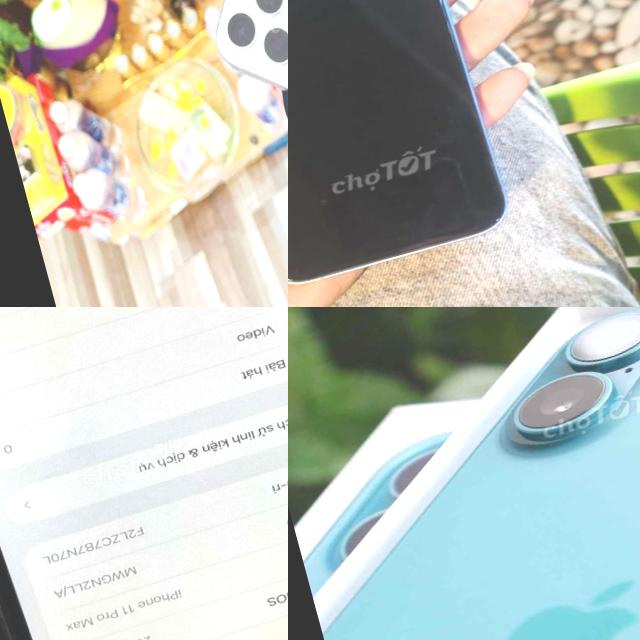scratch: (288, 268, 296, 287)
